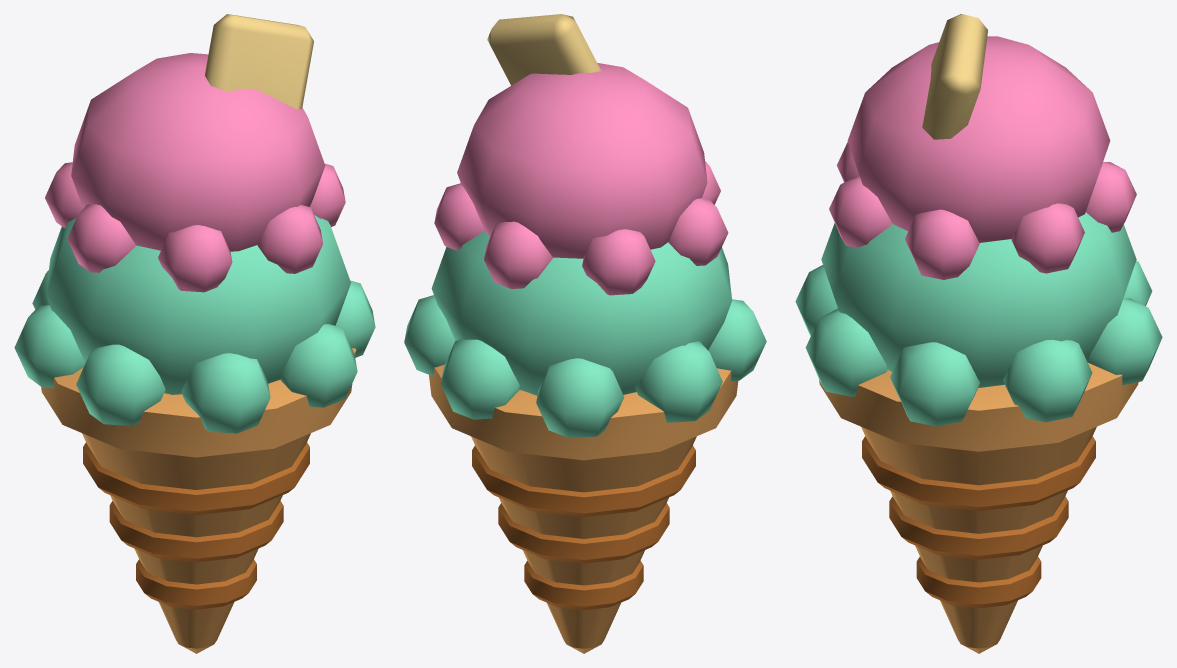
Rendered from Food_ice_cream.glb.
3 views of the same model, side by side, from view 1: azimuth 30°, elevation 25°; view 2: azimuth 150°, elevation 25°; view 3: azimuth 270°, elevation 25° (orthographic). The views are drawn at different scales.
Parts seen in each view (by area): view 1: Mint_7EE8C0, Pink_FF8FC0, Cone_E8A55A, ConeLine_B86E2C, Wafer_F4D58A; view 2: Pink_FF8FC0, Mint_7EE8C0, Cone_E8A55A, ConeLine_B86E2C, Wafer_F4D58A; view 3: Mint_7EE8C0, Pink_FF8FC0, Cone_E8A55A, ConeLine_B86E2C, Wafer_F4D58A.
Boxes of the visible parts, x1,y1,x2,y2 form: Mint_7EE8C0: [14, 215, 375, 433]; Pink_FF8FC0: [45, 53, 345, 292]; Cone_E8A55A: [41, 348, 356, 653]; ConeLine_B86E2C: [83, 442, 309, 609]; Wafer_F4D58A: [204, 14, 313, 109]; Pink_FF8FC0: [434, 63, 728, 295]; Mint_7EE8C0: [404, 231, 766, 438]; Cone_E8A55A: [429, 364, 738, 653]; ConeLine_B86E2C: [472, 445, 695, 610]; Wafer_F4D58A: [487, 14, 601, 85]; Mint_7EE8C0: [795, 212, 1162, 426]; Pink_FF8FC0: [829, 36, 1136, 279]; Cone_E8A55A: [819, 363, 1138, 653]; ConeLine_B86E2C: [862, 436, 1095, 608]; Wafer_F4D58A: [922, 14, 987, 139].
Bounding box in the file's own units: 1.37 × 2.72 × 1.38.
